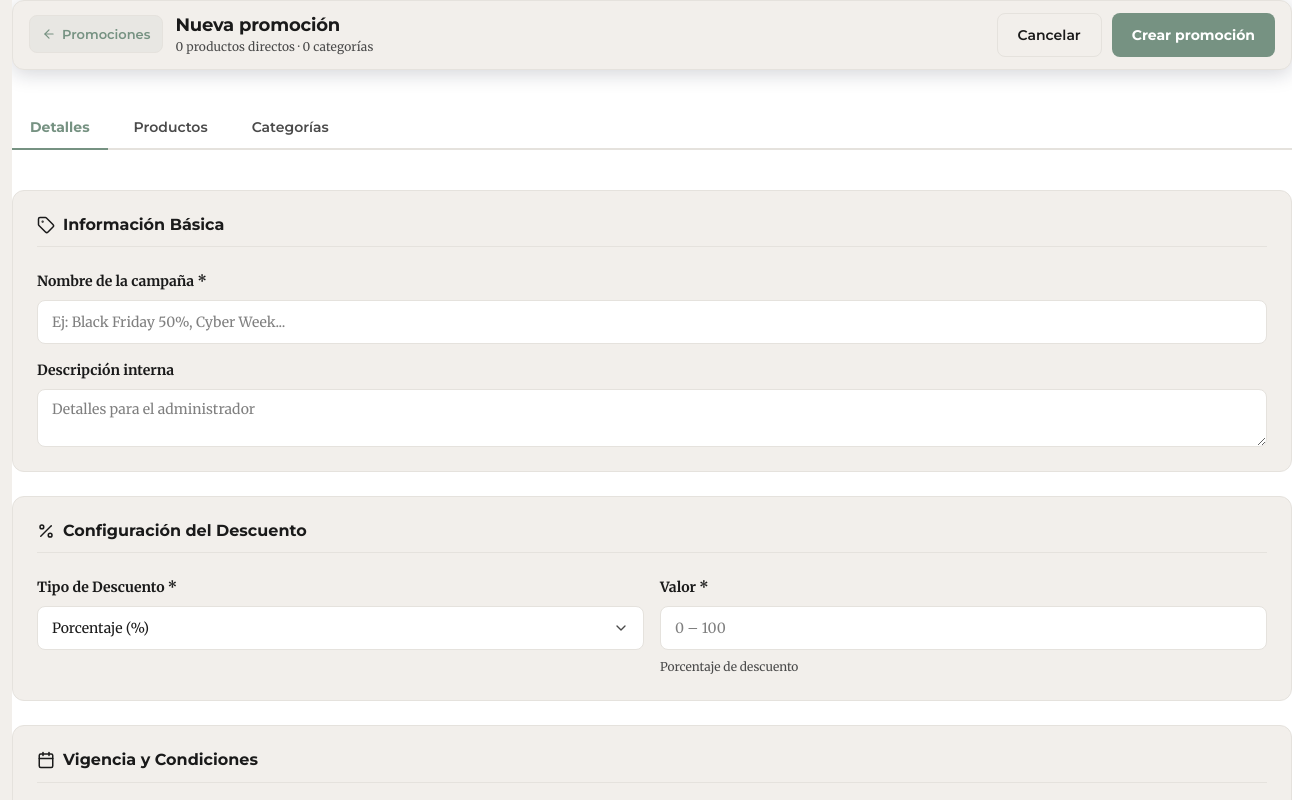
Test: AdminPromotionForm › should reset value to 0 when BOGO type is selected
Select "Monto Fijo ($)" in the dropdown labelled "Tipo de Descuento *". click: (55, 671)
box: left=36, top=649, right=74, bottom=693
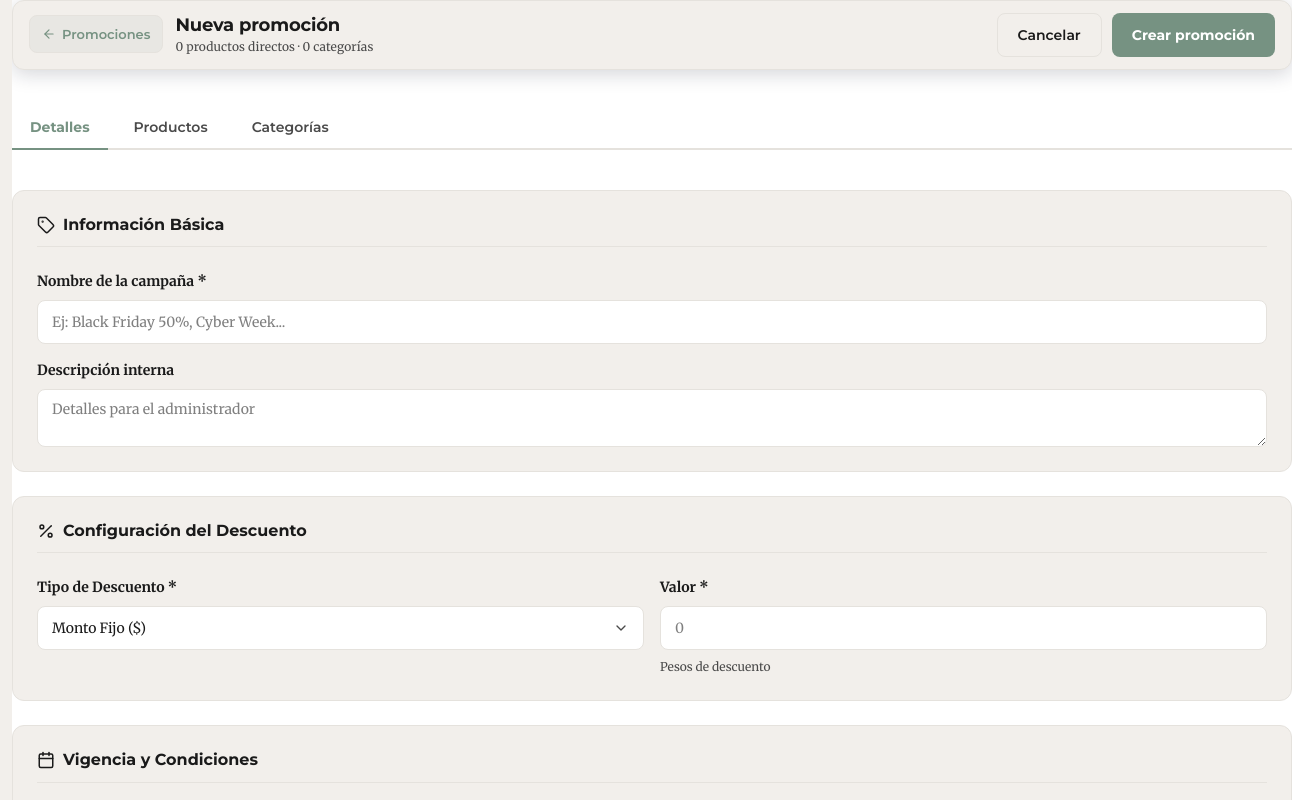
Type "50" into the number field labelled "Valor *". click: (964, 628)
box: left=660, top=606, right=1267, bottom=650
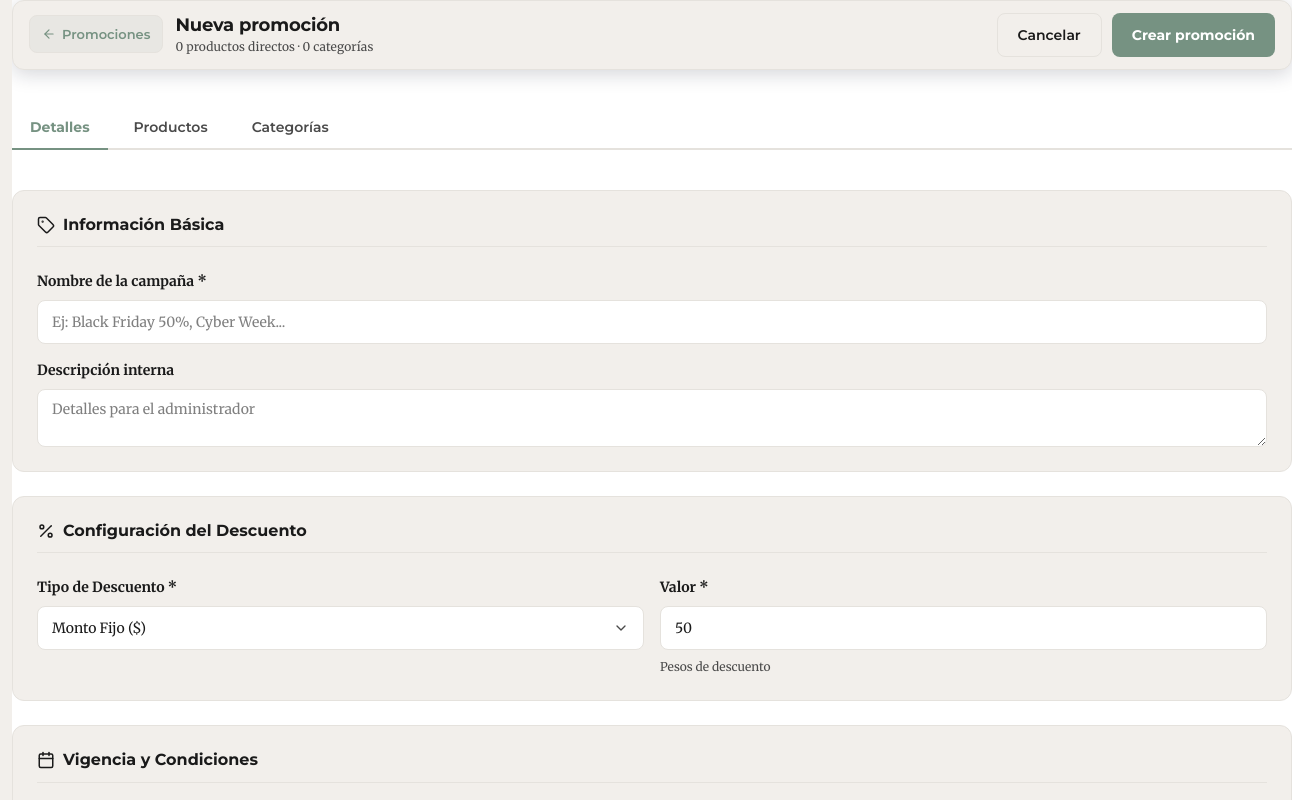
Select "BOGO (Lleva 2 Paga 1)" in the dropdown labelled "Tipo de Descuento *". click: (55, 671)
box: left=36, top=649, right=74, bottom=693
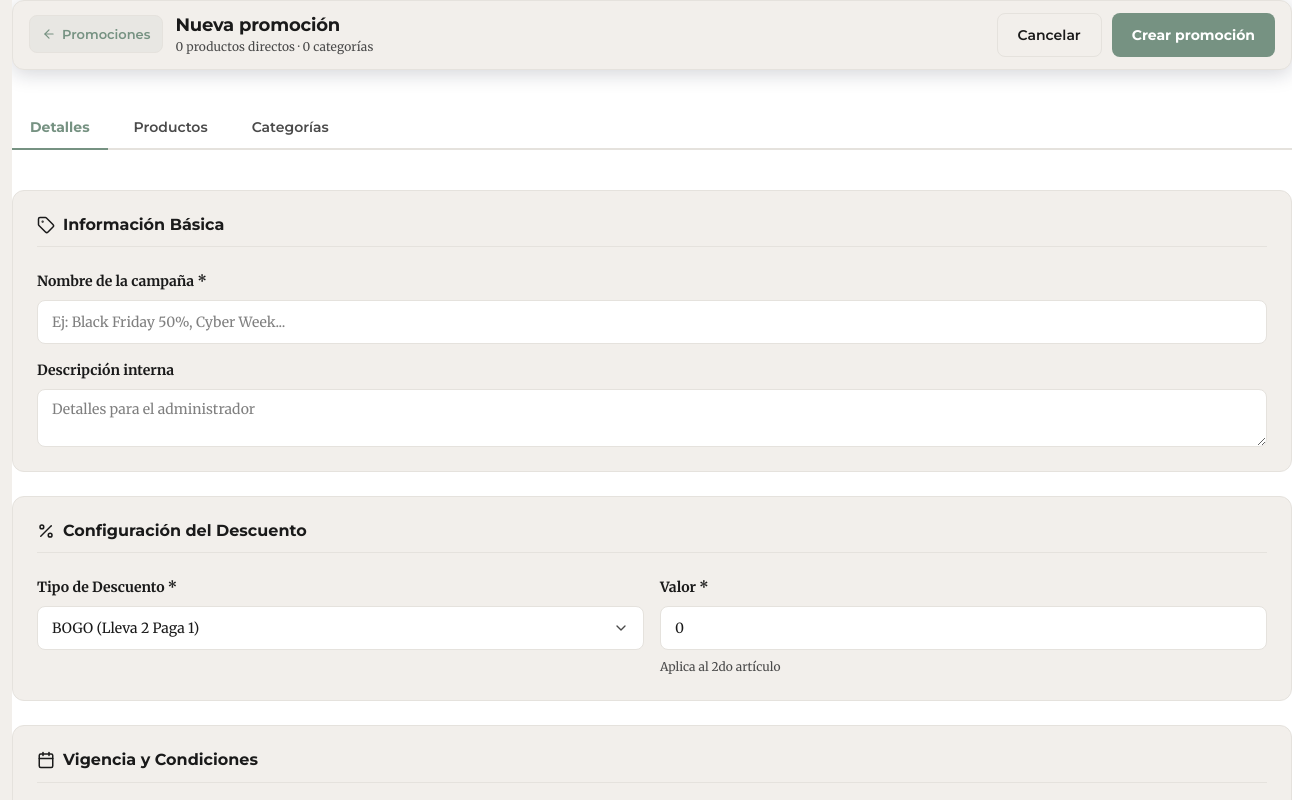
Now the number field labelled "Valor *" holds "0", box left=660, top=606, right=1267, bottom=650
